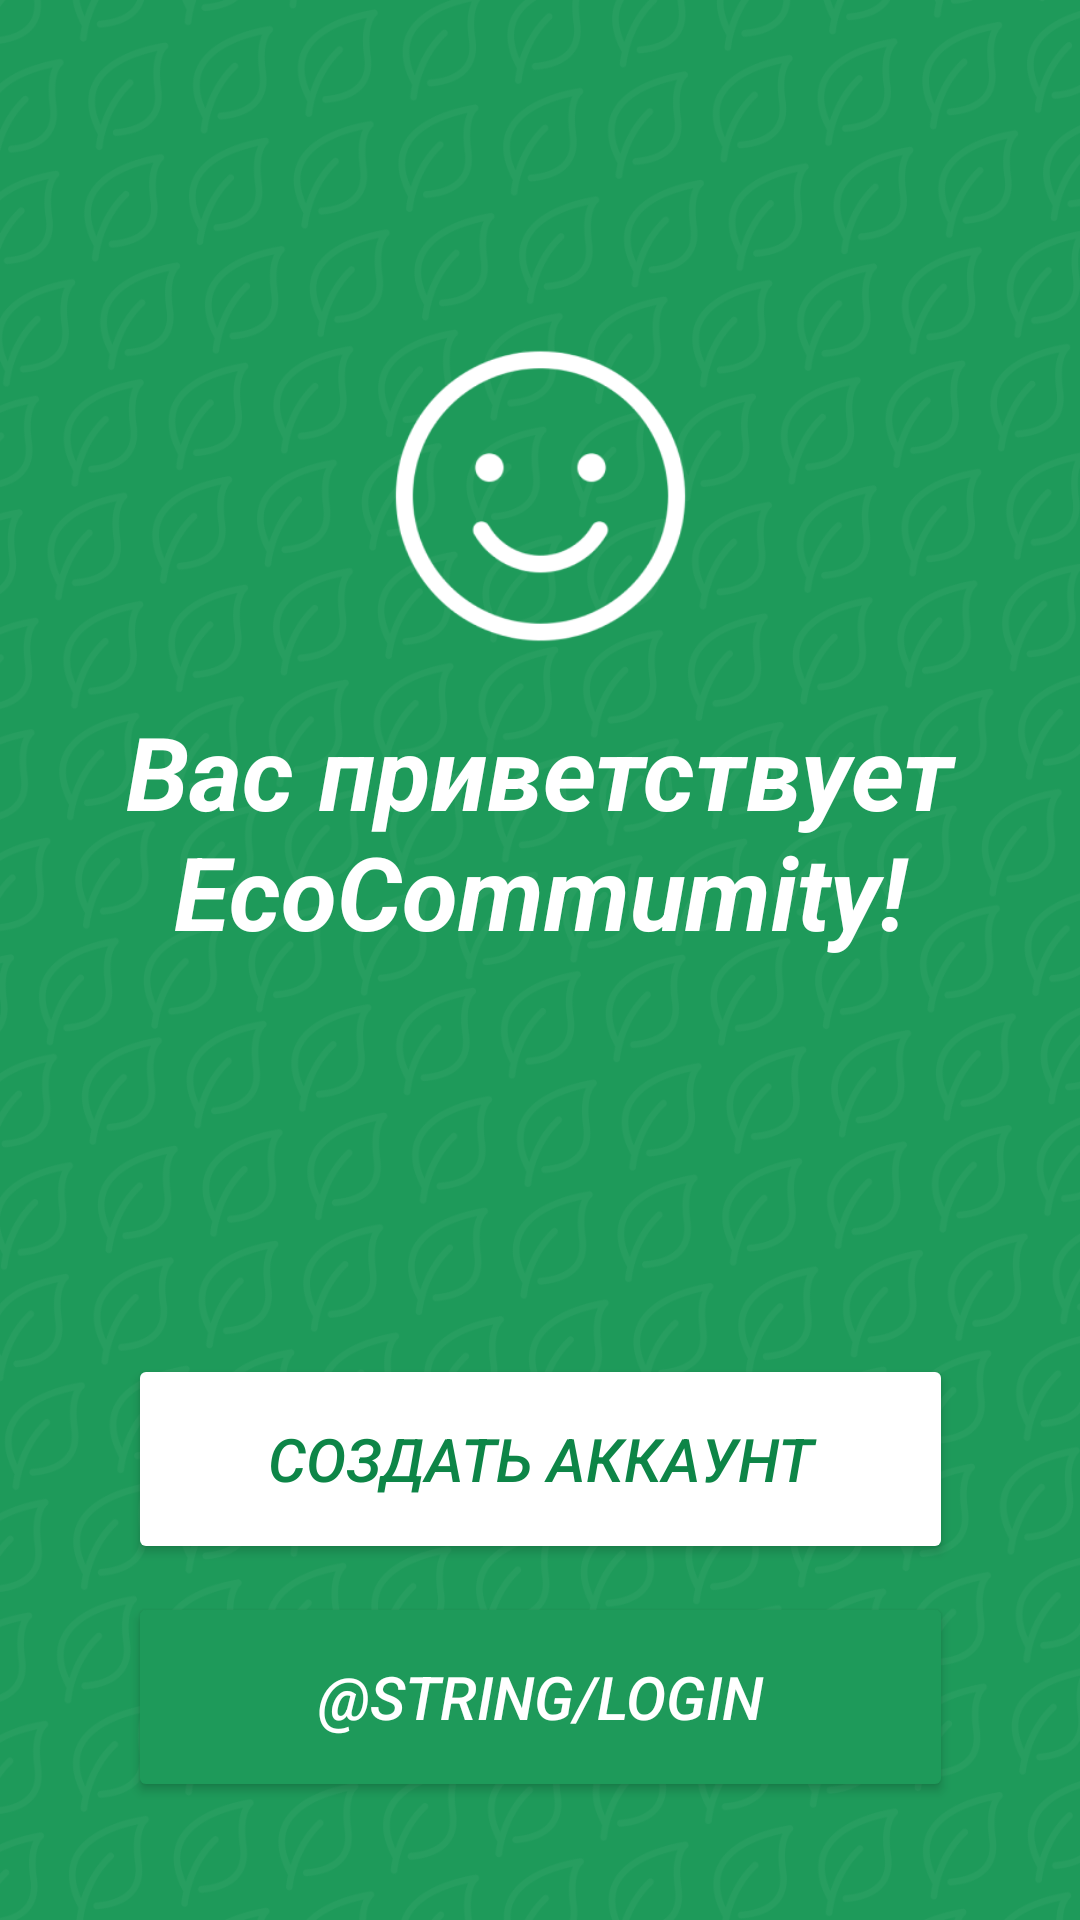

Icons on this 1080×1920 Android screen, each with the point to tap as (x=x, y=y):
smile greeting: (x=540, y=496)
